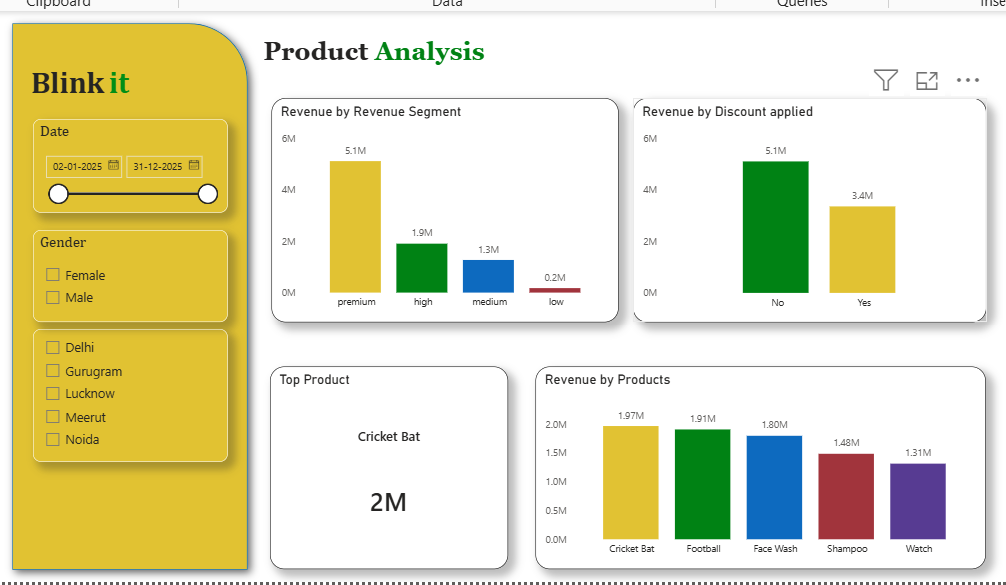

Layout of this report page (visuals, bound fields, positions):
{"tool":"powerbi","page":{"name":"Page 3","canvas":[1280,720],"ordinal":2},"visuals":[{"type":"columnChart","title":"Revenue by Products","fields":{"Category":["blinkit_clean_customer_behaviour.item_purchased"],"Y":["Sum(blinkit_clean_customer_behaviour.purchase_amount)"]},"box":[675,447.5,567.5,255],"z":0},{"type":"columnChart","title":"Revenue by Revenue Segment","fields":{"Y":["Sum(blinkit_clean_customer_behaviour.purchase_amount)"],"Category":["blinkit_clean_customer_behaviour.revenue_segment"]},"box":[342.5,110,437.5,282.5],"z":1000},{"type":"columnChart","title":"Revenue by Discount applied","fields":{"Y":["Sum(blinkit_clean_customer_behaviour.purchase_amount)"],"Category":["blinkit_clean_customer_behaviour.discount_applied"]},"box":[797.4,109.1,445.5,282.9],"z":2000},{"type":"shape","box":[0,0,327.4,719.5],"z":3000},{"type":"textbox","box":[33.4,62.4,131.4,57.9],"z":4000},{"type":"textbox","box":[131.4,62.4,84.6,57.9],"z":5000},{"type":"slicer","title":"Date","fields":{"Values":["blinkit_clean_customer_behaviour.purchase_date"]},"box":[42.3,135.9,245,118.1],"z":6000},{"type":"slicer","title":"Gender","fields":{"Values":["blinkit_clean_customer_behaviour.gender"]},"box":[42.3,276.2,245,115.8],"z":7000},{"type":"slicer","fields":{"Values":["blinkit_clean_customer_behaviour.city"]},"box":[42.3,400.9,245,167.1],"z":8000},{"type":"textbox","box":[327.4,26.7,383.1,71.3],"z":9000},{"type":"cardVisual","title":"Top Product","fields":{"Data":["Sum(blinkit_clean_customer_behaviour.purchase_amount)"],"Rows":["blinkit_clean_customer_behaviour.item_purchased"]},"box":[340,447.5,300,255],"z":10000}]}

Visuals, with their boxes on the page's 1280x720 design canvas (x1, y1, x2, y2). These are canvas units, not pixel positions in the 1006x585 screenshot, which may show the page scaled, cropped or inside an application window:
"Revenue by Products" columnChart: BBox(675, 448, 1242, 702)
"Revenue by Revenue Segment" columnChart: BBox(342, 110, 780, 392)
"Revenue by Discount applied" columnChart: BBox(797, 109, 1243, 392)
shape: BBox(0, 0, 327, 720)
textbox: BBox(33, 62, 165, 120)
textbox: BBox(131, 62, 216, 120)
"Date" slicer: BBox(42, 136, 287, 254)
"Gender" slicer: BBox(42, 276, 287, 392)
slicer - blinkit_clean_customer_behaviour.city: BBox(42, 401, 287, 568)
textbox: BBox(327, 27, 710, 98)
"Top Product" cardVisual: BBox(340, 448, 640, 702)
